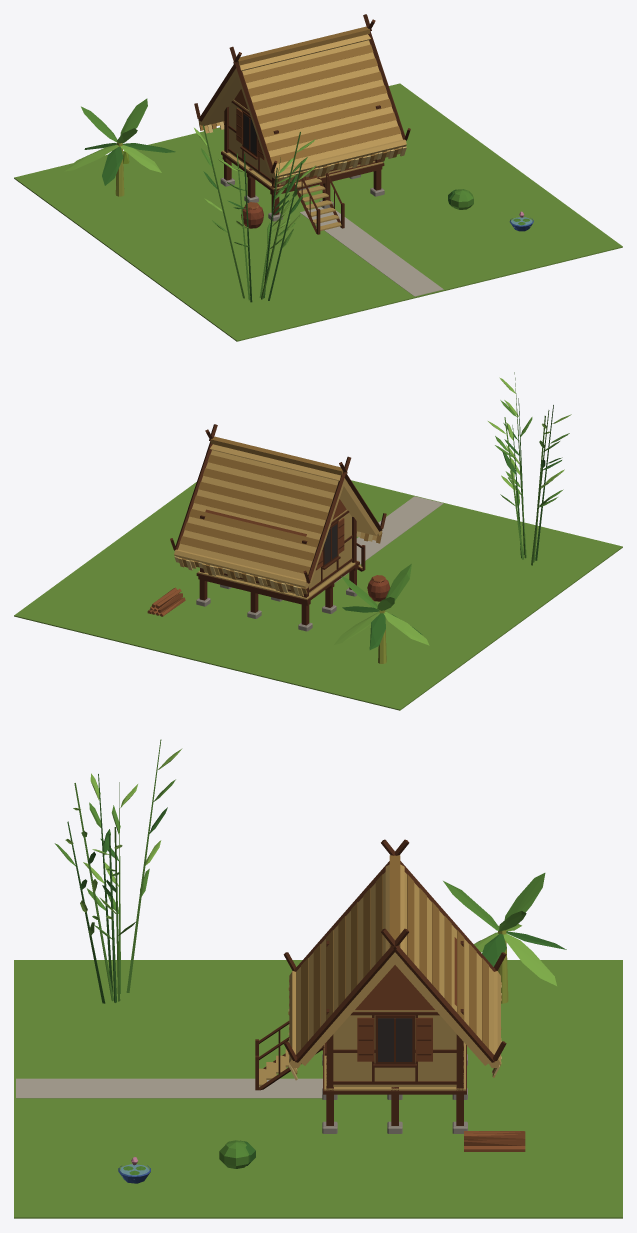
The model's file is home_1.glb.
The picture shows the model from 3 angles, top to bottom: view 1: azimuth 30°, elevation 25°; view 2: azimuth 150°, elevation 25°; view 3: azimuth 270°, elevation 25°; orthographic projection. The views are drawn at different scales.
Parts seen in each view (by area): view 1: body; view 2: body; view 3: body, windows.
Part boxes in pixels (box(x1,y1,x2,y2)): body: box(14, 14, 622, 341); body: box(14, 372, 622, 710); body: box(14, 739, 622, 1218); windows: box(378, 1018, 412, 1061).
Size of the model in its own units: 15.9 by 6.86 by 15.9.
